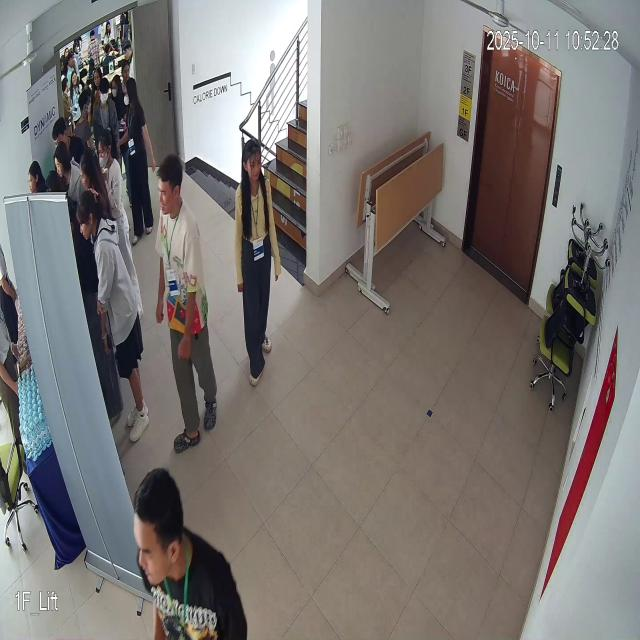face: (149, 146, 193, 228), (239, 136, 265, 189)
